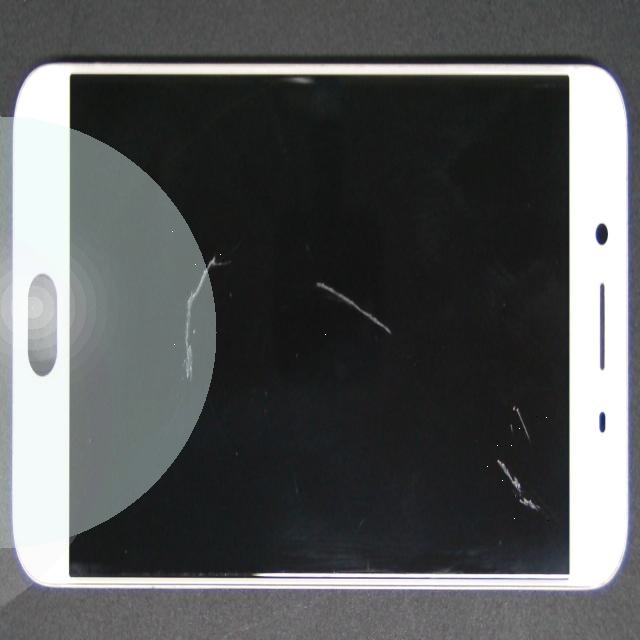scratch: (269, 156, 640, 630), (191, 182, 575, 547), (78, 137, 260, 555)
